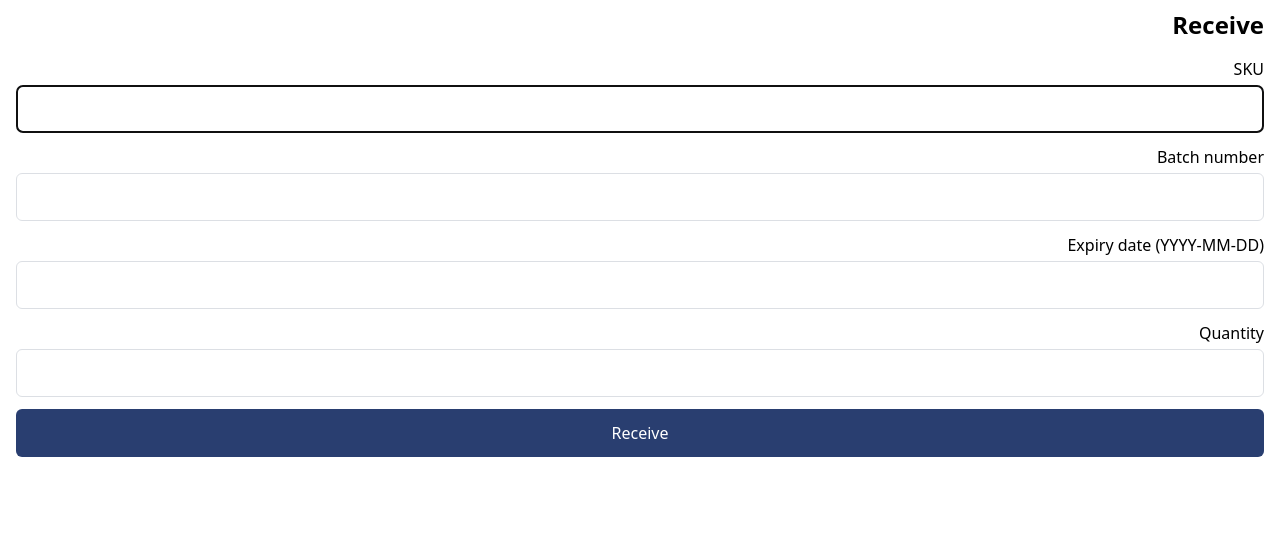
Test case: Scenario: Scanning SKU, batch and expiry enqueues one receive-line command with one Idempotency-Key › enqueues exactly one receive-line command whose body is a valid ReceiveLineInput, with the key generated at scan time
Type "SKU-100" into the field labelled "SKU".
click(640, 109); type("SKU-100")  # box x1=16 y1=85 x2=1264 y2=133
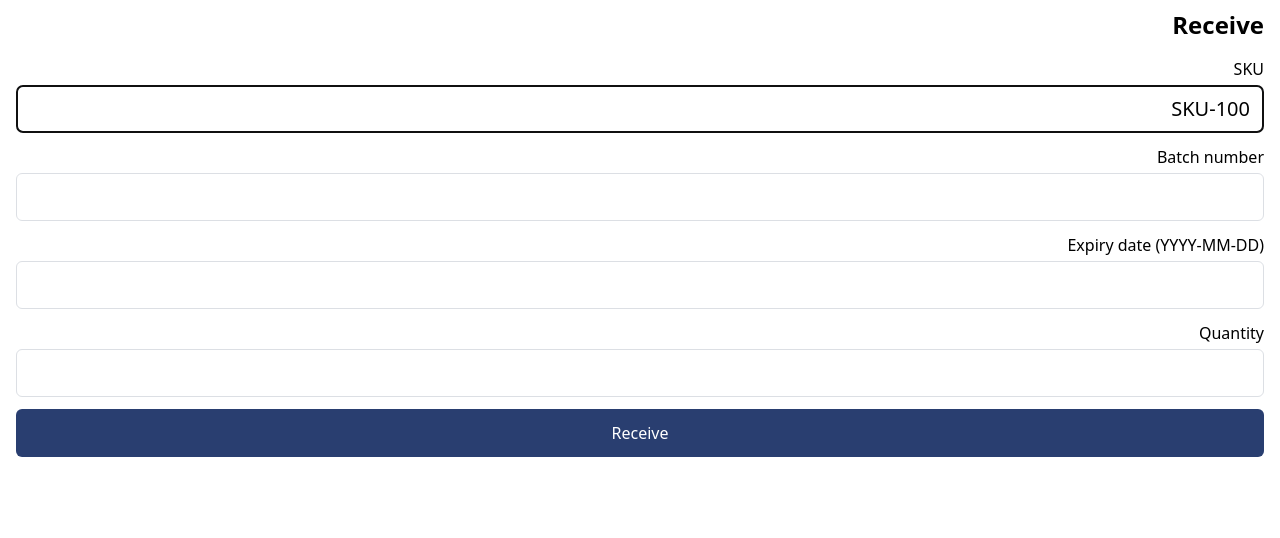
Type "B2409-7" into the field labelled "Batch number".
click(640, 197); type("B2409-7")  # box x1=16 y1=173 x2=1264 y2=221
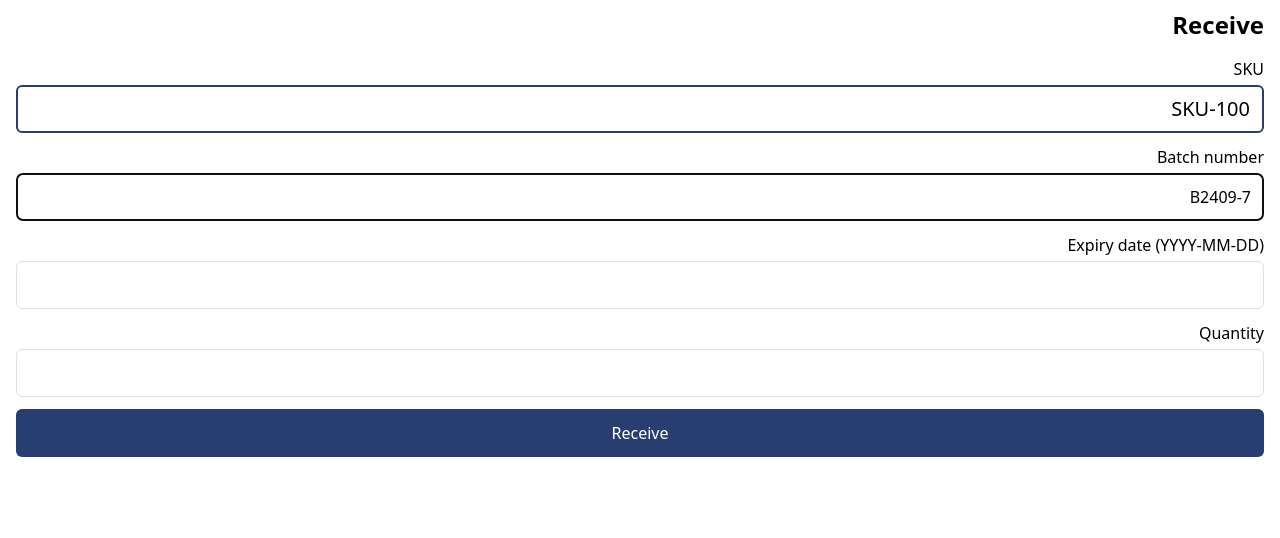
Type "2027-01-27" into the field labelled "Expiry date (YYYY-MM-DD)".
click(640, 285); type("2027-01-27")  # box x1=16 y1=261 x2=1264 y2=309
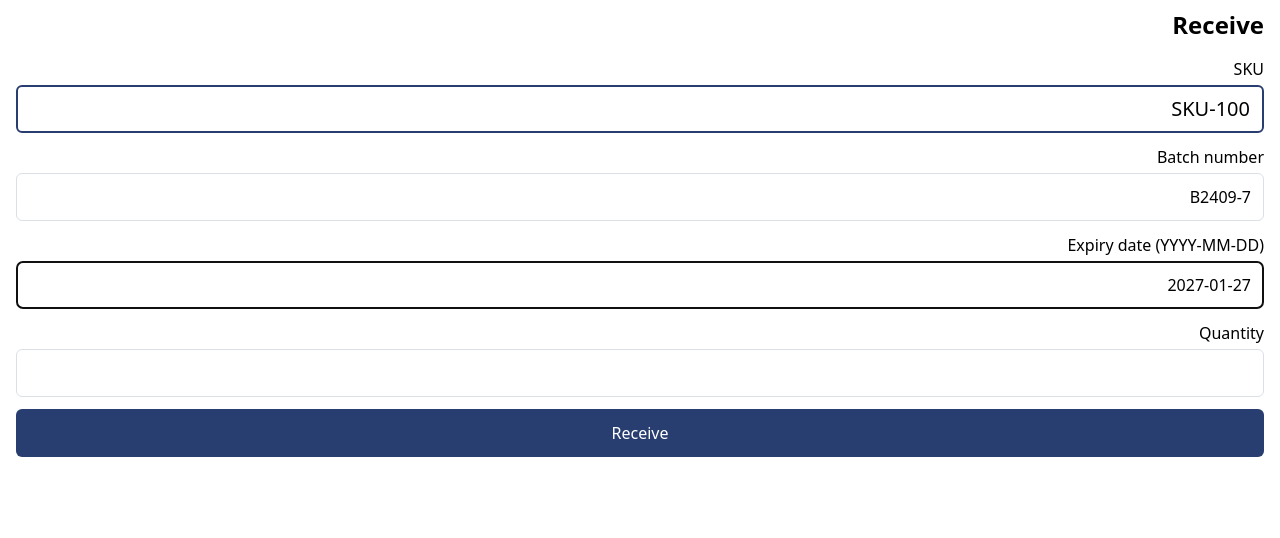
Type "10" into the field labelled "Quantity".
click(640, 373); type("10")  # box x1=16 y1=349 x2=1264 y2=397
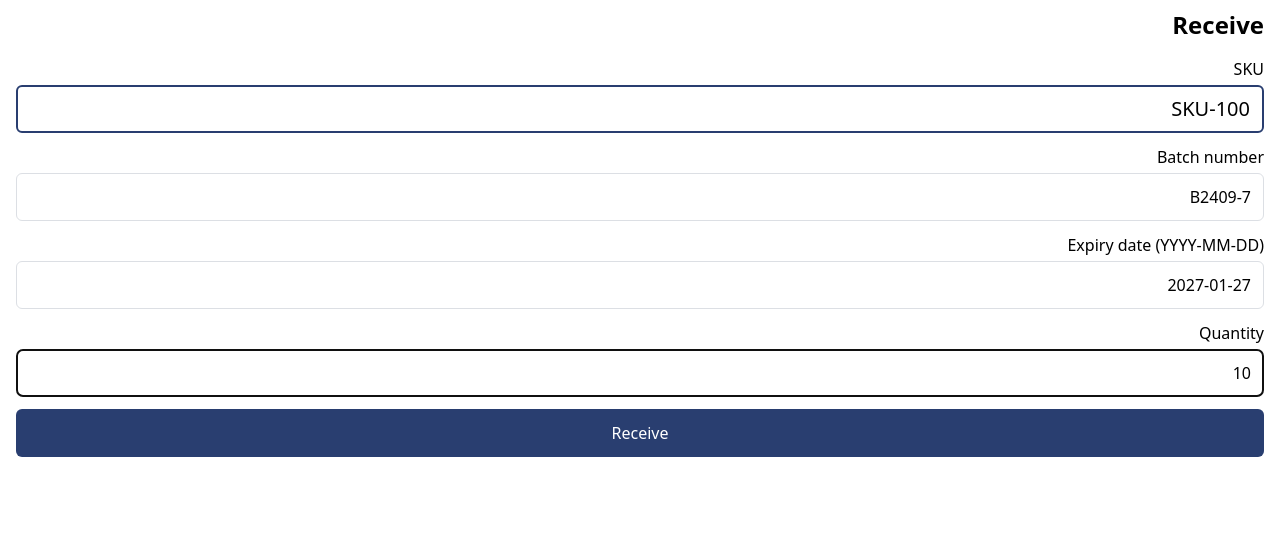
Click the button "Receive".
click(640, 433)  # box x1=16 y1=409 x2=1264 y2=457
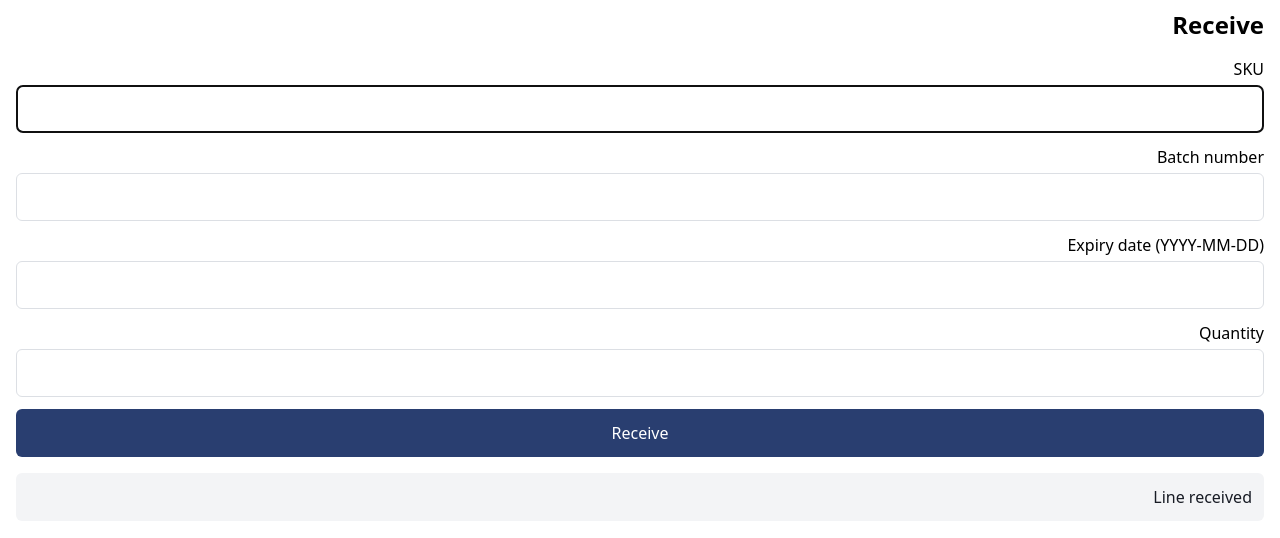
Expected: the message reads "Line received", x1=1153 y1=486 x2=1252 y2=508
